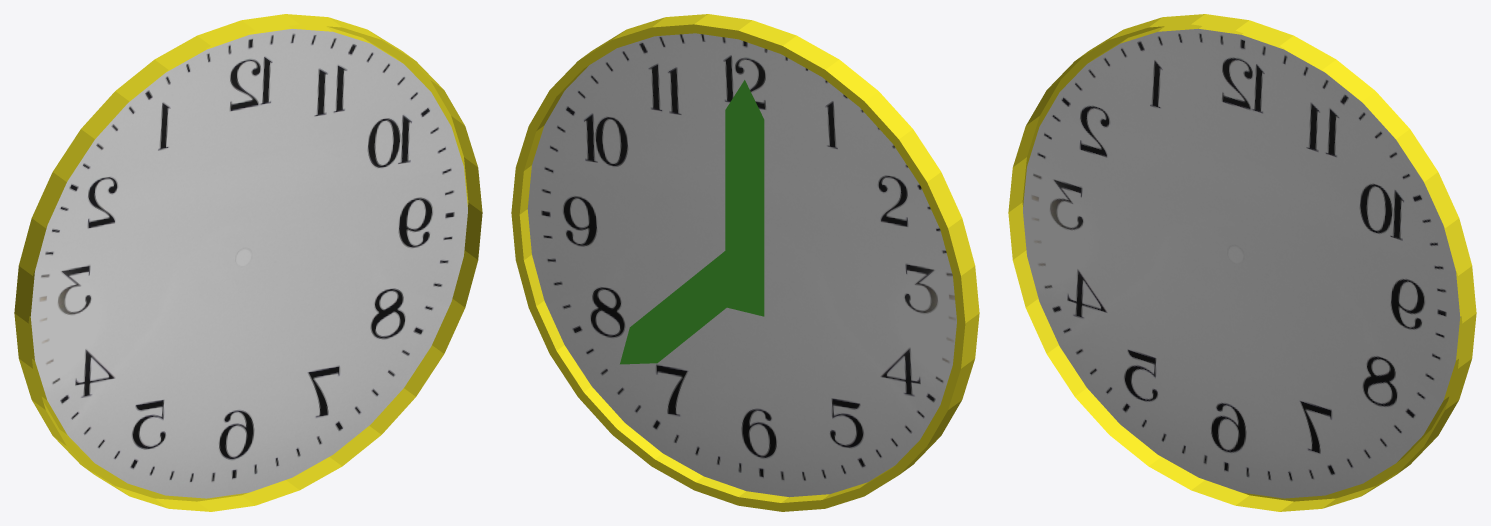
File: clock.fbx
The picture shows the model from 3 angles, left to right: view 1: azimuth 30°, elevation 25°; view 2: azimuth 150°, elevation 25°; view 3: azimuth 330°, elevation 25°; orthographic projection.
Parts seen in each view (by area): view 1: Cylinder; view 2: Cylinder, Plane, Plane.001; view 3: Cylinder.
Part boxes in pixels (x1,y1,x2,y2): Cylinder: [14, 14, 482, 511]; Cylinder: [511, 14, 979, 511]; Plane: [725, 80, 764, 316]; Plane.001: [620, 251, 726, 364]; Cylinder: [1008, 14, 1476, 511].
Size of the model in its own units: 0.7653 by 0.7653 by 0.0415.
